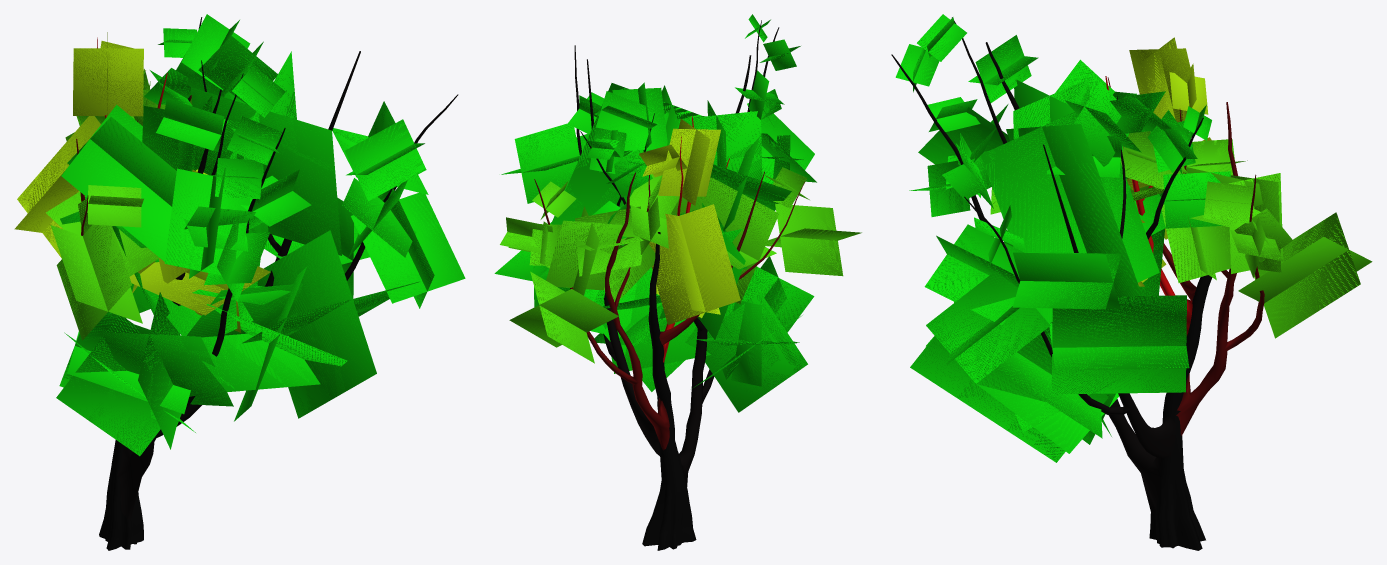
The model's file is Type_1_Tree_12.fbx.
3 views of the same model, side by side, from view 1: azimuth 30°, elevation 25°; view 2: azimuth 150°, elevation 25°; view 3: azimuth 270°, elevation 25° (orthographic). The views are drawn at different scales.
Parts seen in each view (by area): view 1: Leaf, Trunk; view 2: Leaf, Trunk; view 3: Leaf, Trunk.
Part boxes in pixels (x1,y1,x2,y2): Leaf: [14, 14, 465, 456]; Trunk: [76, 17, 458, 550]; Leaf: [494, 14, 861, 412]; Trunk: [534, 20, 804, 550]; Leaf: [895, 14, 1372, 462]; Trunk: [891, 17, 1264, 550].
Bounding box in the file's own units: 2652 × 3653 × 3000.
